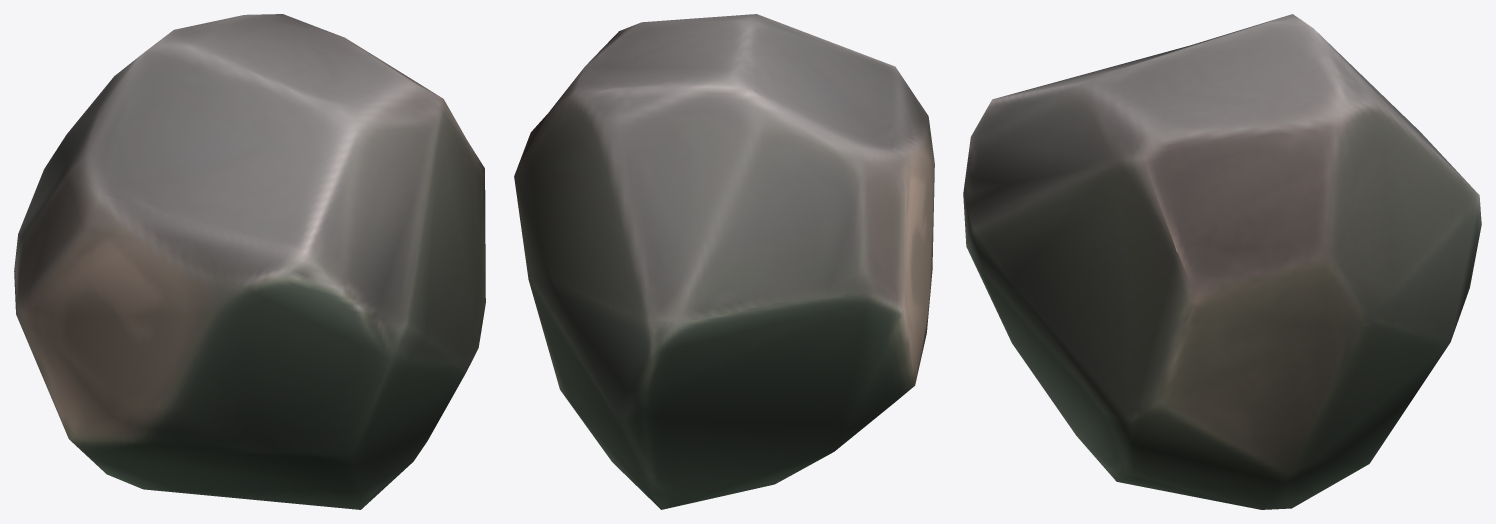
File: o3_roccia_07.glb
The picture shows the model from 3 angles, left to right: view 1: azimuth 30°, elevation 25°; view 2: azimuth 150°, elevation 25°; view 3: azimuth 270°, elevation 25°; orthographic projection. The views are drawn at different scales.
Parts seen in each view (by area): view 1: sb_modello; view 2: sb_modello; view 3: sb_modello.
Boxes of the visible parts, left/top/right/bottom form: sb_modello: left=14, top=14, right=485, bottom=509; sb_modello: left=514, top=14, right=934, bottom=509; sb_modello: left=963, top=14, right=1481, bottom=509.
Bounding box in the file's own units: 0.6784 × 0.66 × 0.7235.
1 material, 1 textured.
